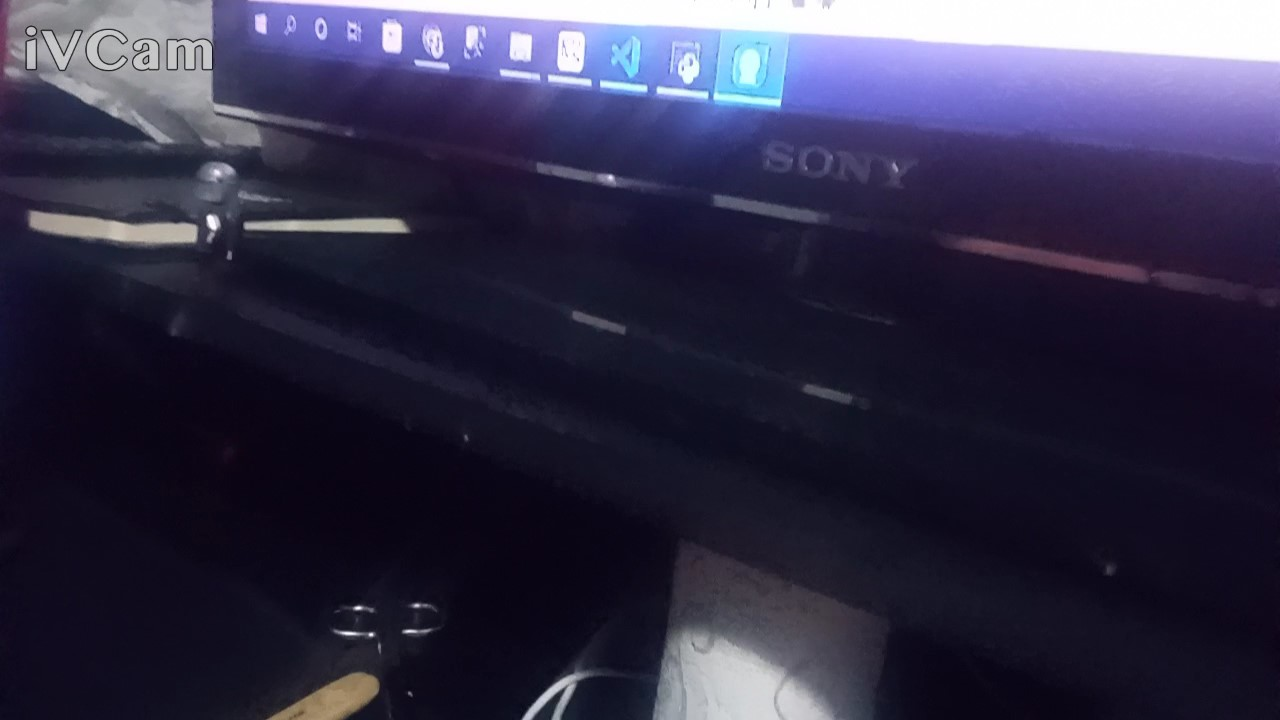mandalorian: (168, 162, 263, 328)
